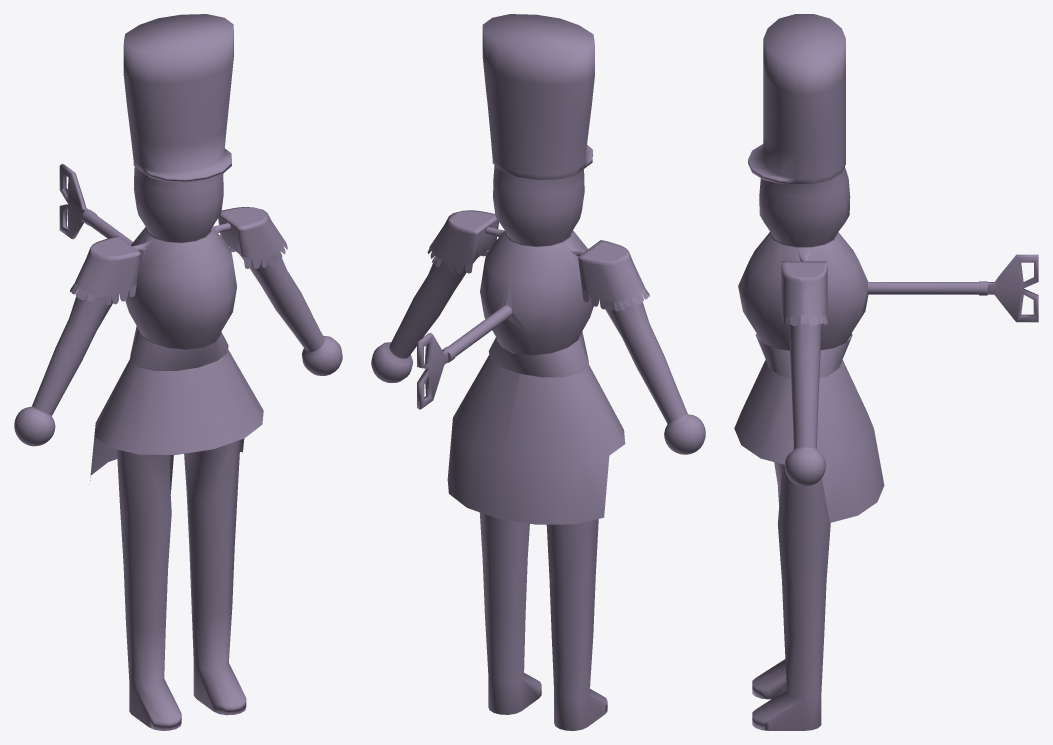
The model's file is nutcracker1.fbx.
The picture shows the model from 3 angles, left to right: view 1: azimuth 30°, elevation 25°; view 2: azimuth 150°, elevation 25°; view 3: azimuth 270°, elevation 25°; orthographic projection.
Visible parts, largest first — view 1: polySurface1; view 2: polySurface1; view 3: polySurface1.
Boxes of the visible parts, <box> form: polySurface1: <box>14,14,342,730</box>; polySurface1: <box>371,14,705,730</box>; polySurface1: <box>734,14,1038,730</box>.
Size of the model in its own units: 20.24 by 40.12 by 16.55.
